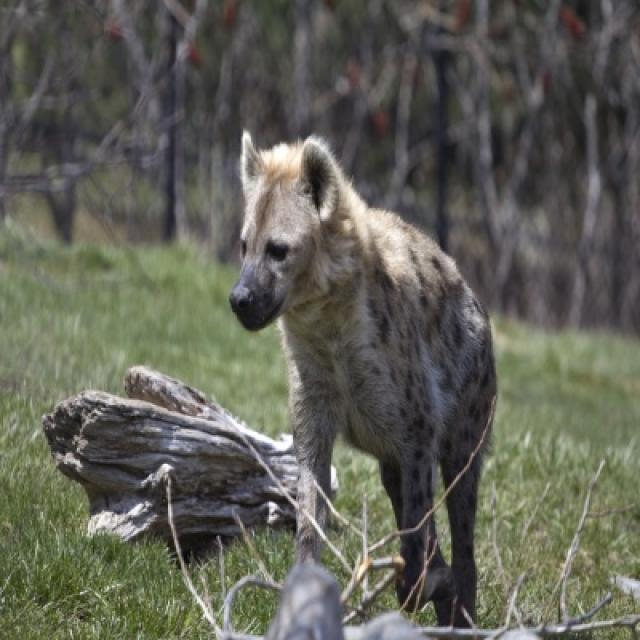hyena: (229, 134, 499, 638)
